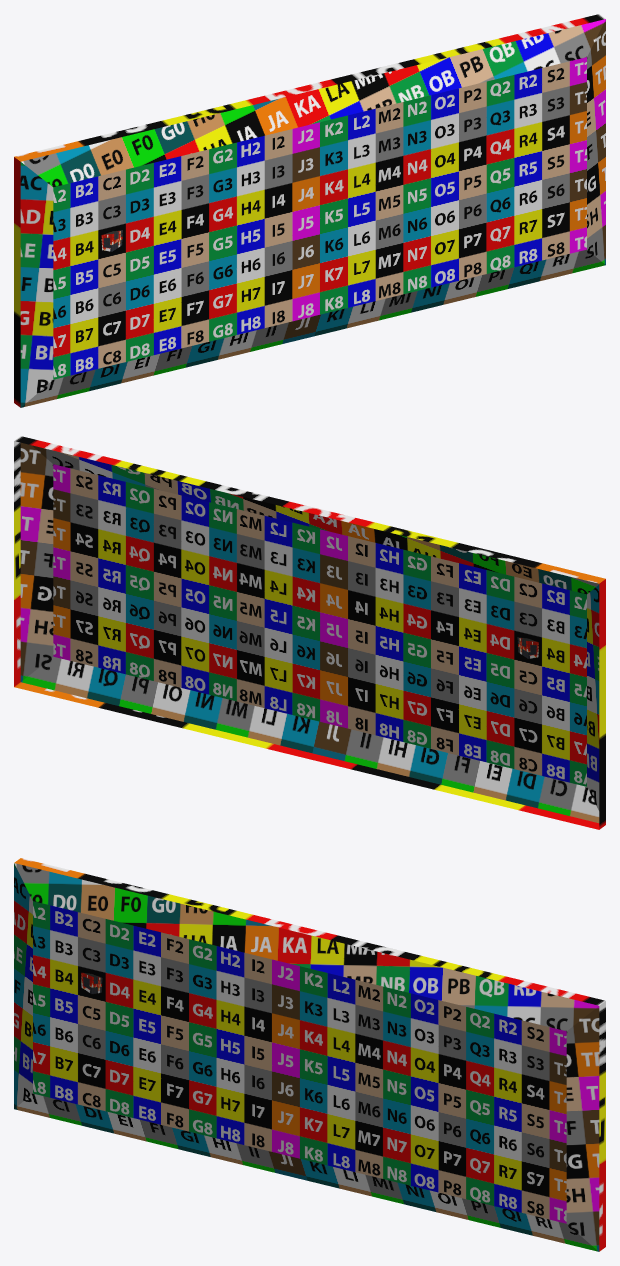
File: pictureframe2.FBX
3 renders of one model, top to bottom at view 1: azimuth 30°, elevation 25°; view 2: azimuth 150°, elevation 25°; view 3: azimuth 330°, elevation 25°, orthographic.
Visible parts, largest first — view 1: pictureframe2; view 2: pictureframe2; view 3: pictureframe2.
Boxes of the visible parts, <box> form: pictureframe2: <box>14,14,605,407</box>; pictureframe2: <box>14,436,605,829</box>; pictureframe2: <box>14,858,605,1251</box>.
Bounding box in the file's own units: 4.59 × 1.85 × 0.1843.
1 material, 1 textured.
